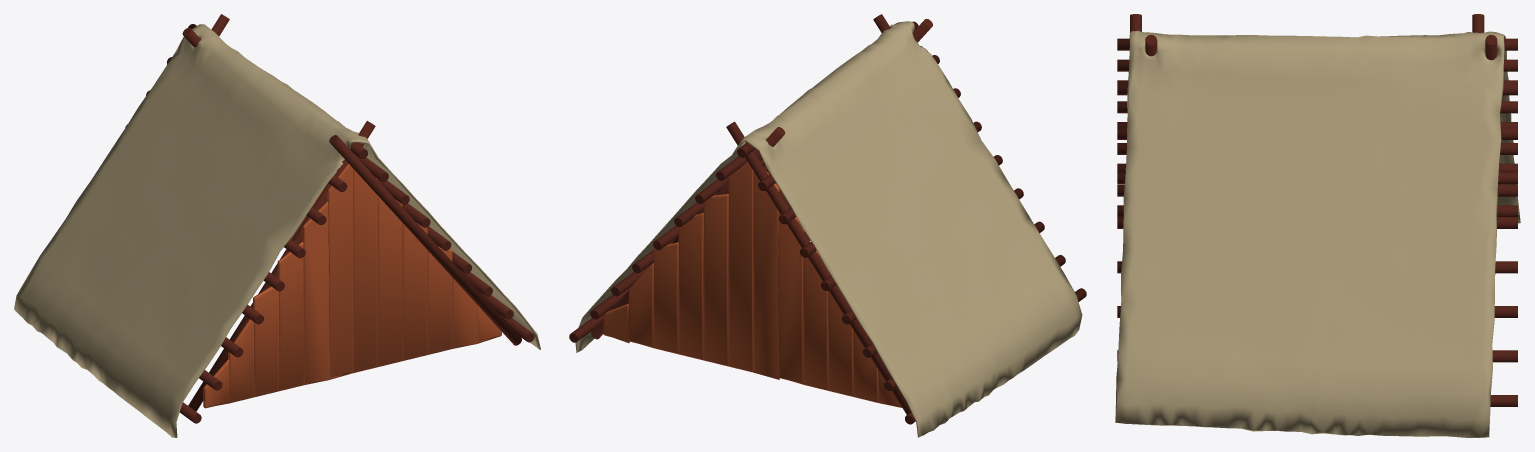
Rendered from SM_Tent.fbx.
3 views of the same model, side by side, from view 1: azimuth 30°, elevation 25°; view 2: azimuth 150°, elevation 25°; view 3: azimuth 270°, elevation 25° (orthographic). The views are drawn at different scales.
Parts seen in each view (by area): view 1: Plane.001, Plane, Cylinder.001, Cylinder, Cylinder.002; view 2: Plane.001, Plane, Cylinder.001, Cylinder.004, Cylinder.003; view 3: Plane.001, Cylinder.001.
Boxes of the visible parts, bbox=[...] form: Plane.001: bbox=[14, 24, 540, 437]; Plane: bbox=[203, 163, 501, 408]; Cylinder.001: bbox=[125, 24, 534, 423]; Cylinder: bbox=[329, 135, 521, 345]; Cylinder.002: bbox=[188, 121, 375, 411]; Plane.001: bbox=[575, 21, 1082, 437]; Plane: bbox=[603, 162, 901, 407]; Cylinder.001: bbox=[569, 21, 1086, 424]; Cylinder.004: bbox=[726, 121, 911, 414]; Cylinder.003: bbox=[591, 127, 784, 339]; Plane.001: bbox=[1115, 30, 1520, 437]; Cylinder.001: bbox=[1117, 38, 1517, 406].
Bounding box in the file's own units: 240 × 174 × 202.
